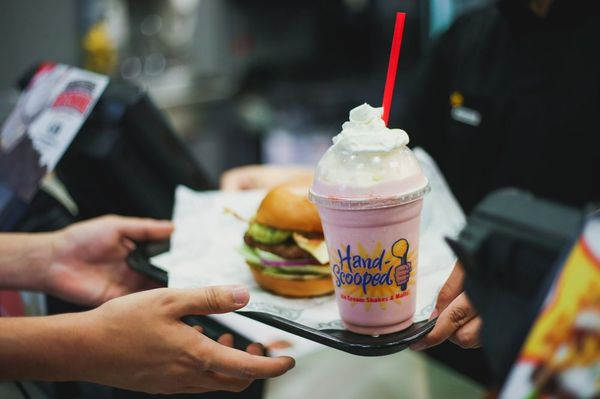soup: (242, 176, 335, 298)
